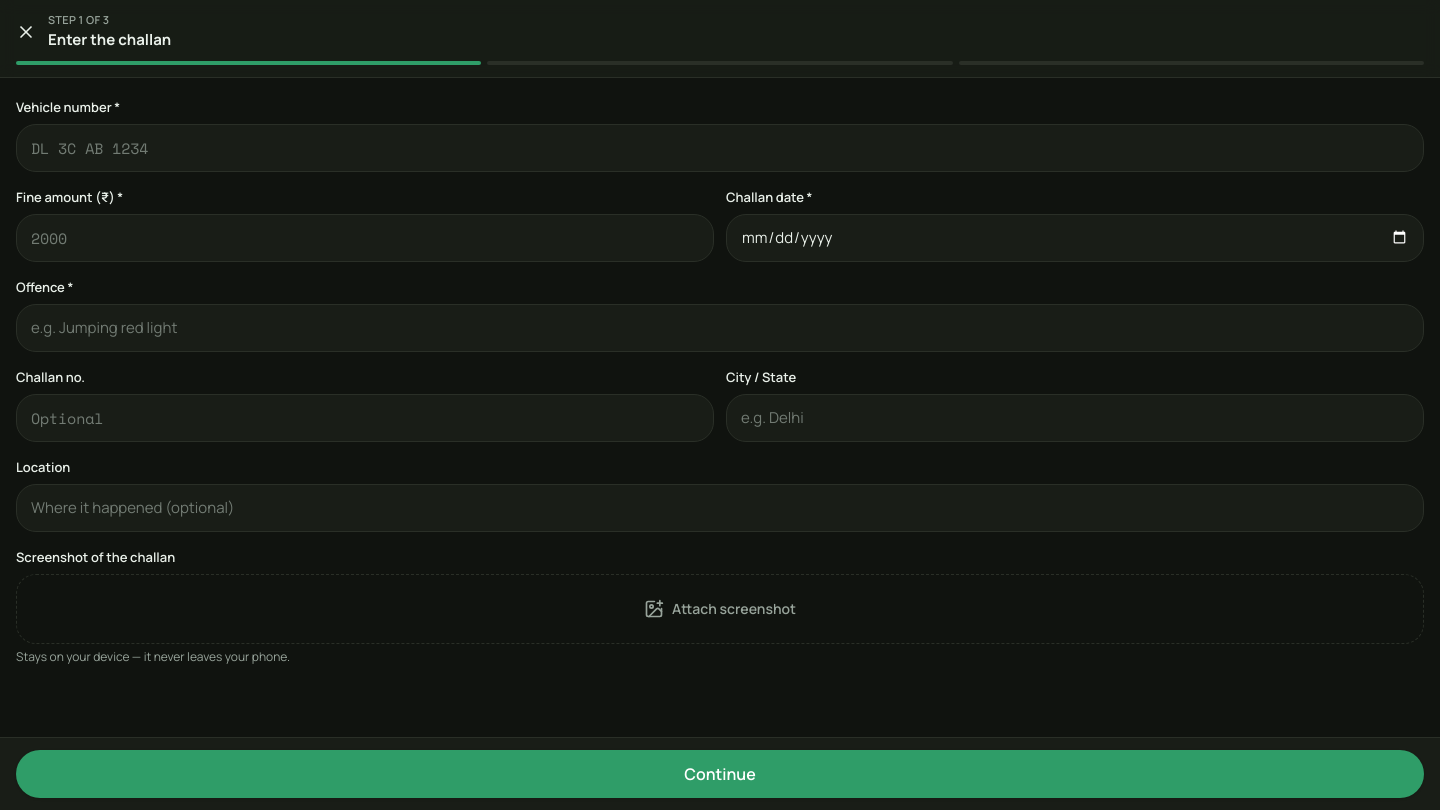
Scenario: DrafterPage › blocks step 1 when required fields are missing
Step 1. Click the button "Continue" → (720, 774), box x1=16 y1=750 x2=1424 y2=798
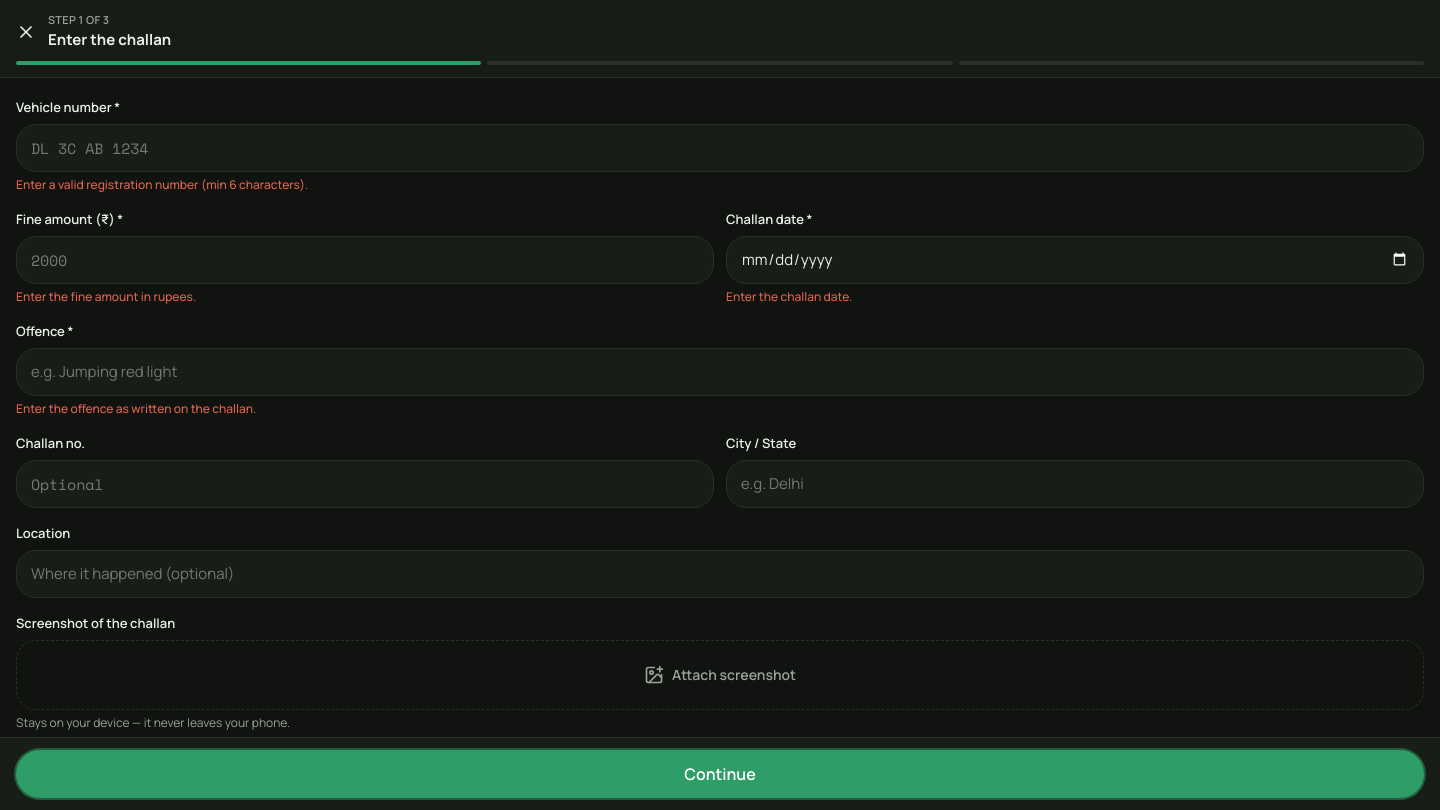
Expected: the text "Step 1 of 3" is shown, x1=48 y1=12 x2=109 y2=27
Result: the text "Enter a valid registration number (min 6 characters)." is shown at x1=16 y1=176 x2=308 y2=193
